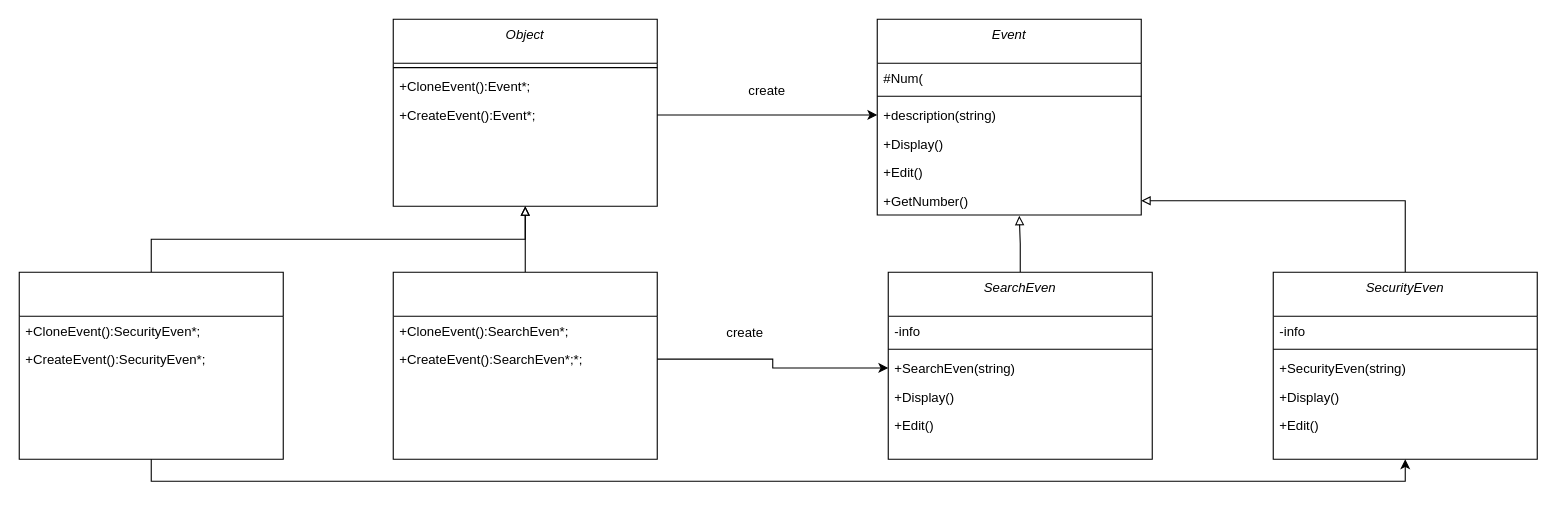
Some shapes in this 1557 by 509 pixel diagram are drawn without their labels. The shapes that lost their labels are listed below. From the top down, each one's box as (x1, y1, x2, y2) in pixels, then its label:
(18, 271, 283, 459): SecurityObj
(392, 271, 657, 459): SearchObj
